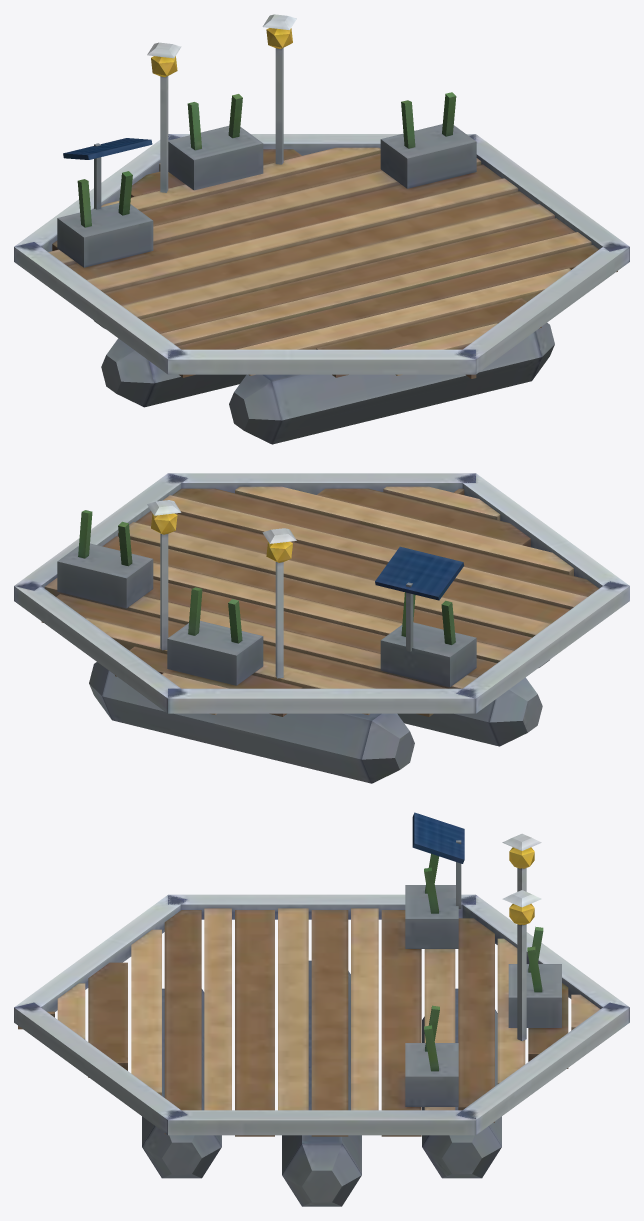
Rendered from raft-c-age20-lite.glb.
3 renders of one model, top to bottom at view 1: azimuth 30°, elevation 25°; view 2: azimuth 150°, elevation 25°; view 3: azimuth 270°, elevation 25°, orthographic.
Visible parts, largest first — view 1: raft-c-age20-lite; view 2: raft-c-age20-lite; view 3: raft-c-age20-lite.
Part boxes in pixels (x1,y1,x2,y2): raft-c-age20-lite: [14, 14, 629, 444]; raft-c-age20-lite: [14, 473, 629, 783]; raft-c-age20-lite: [14, 812, 629, 1206].
Bounding box in the file's own units: 1.6 × 0.8239 × 1.85.
Materials: 1 (1 with a texture image).
